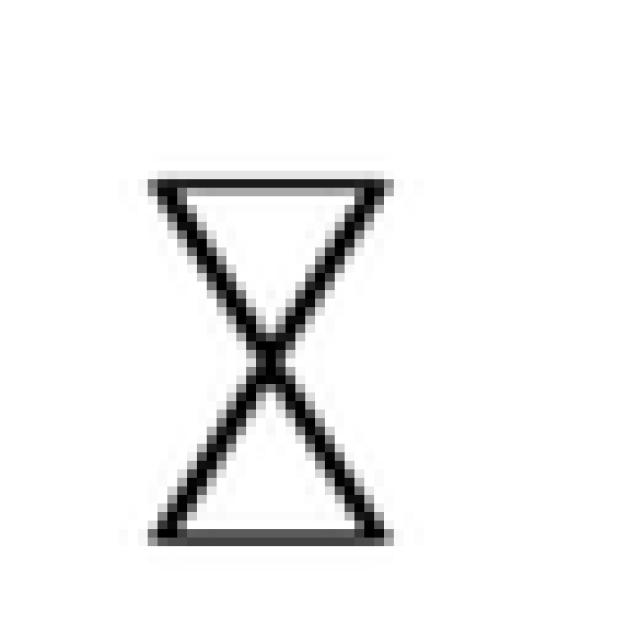Gate valve: (163, 181, 390, 539)
